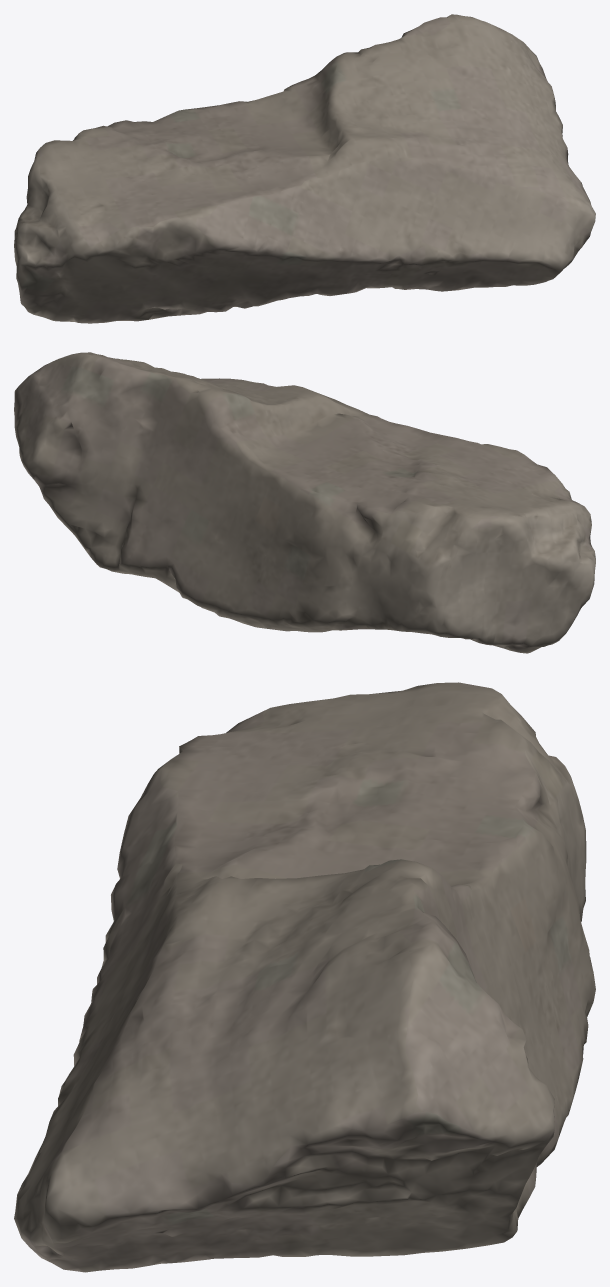
Rendered from moon_rock_01.glb.
The picture shows the model from 3 angles, top to bottom: view 1: azimuth 30°, elevation 25°; view 2: azimuth 150°, elevation 25°; view 3: azimuth 270°, elevation 25°; orthographic projection. The views are drawn at different scales.
Parts seen in each view (by area): view 1: moon_rock_01_LOD0; view 2: moon_rock_01_LOD0; view 3: moon_rock_01_LOD0.
Boxes of the visible parts, box(x1,y1,x2,y2) form: moon_rock_01_LOD0: box(14, 14, 595, 323); moon_rock_01_LOD0: box(14, 352, 595, 653); moon_rock_01_LOD0: box(14, 682, 595, 1272).
Size of what is drawn, in the model's own units: 0.2121 by 0.0751 by 0.1116.
1 material, 1 textured.
